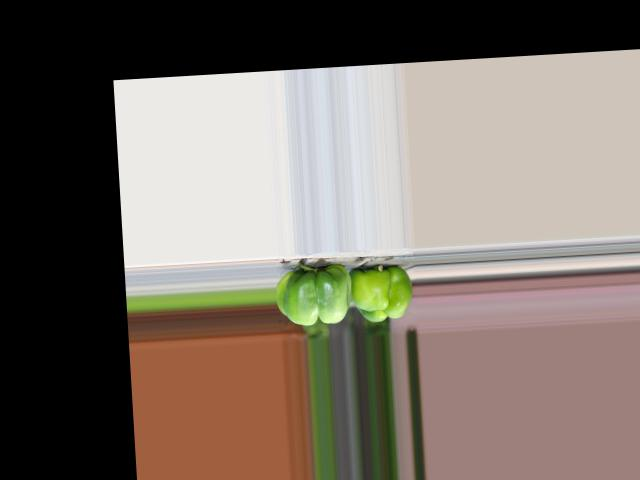bell_pepper: (348, 259, 416, 325)
